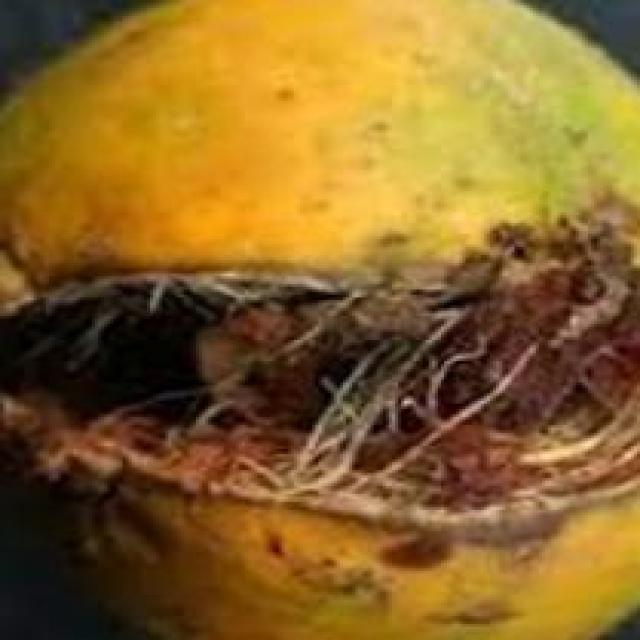damaged: (0, 0, 637, 637)
